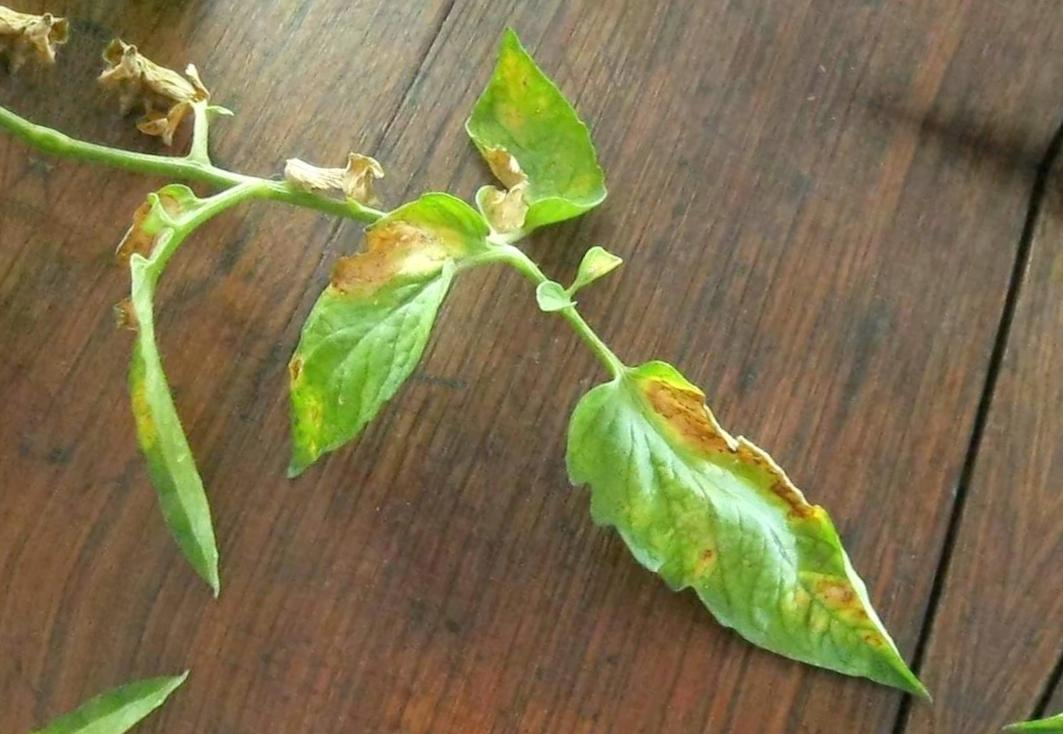Tomato Early blight leaf: (508, 339, 1006, 731), (241, 148, 511, 529)
